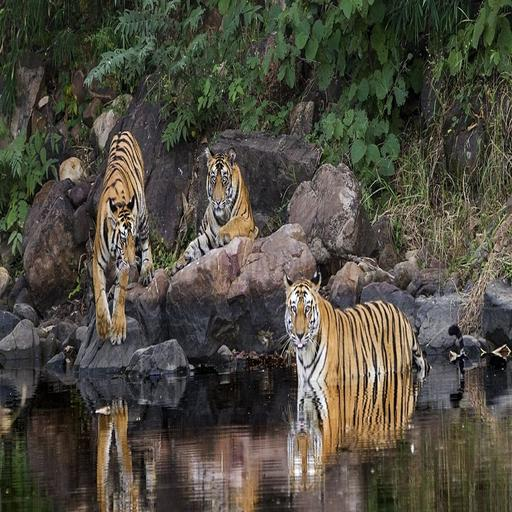Tiger: (275, 268, 435, 429), (75, 125, 155, 352), (156, 146, 263, 282)
